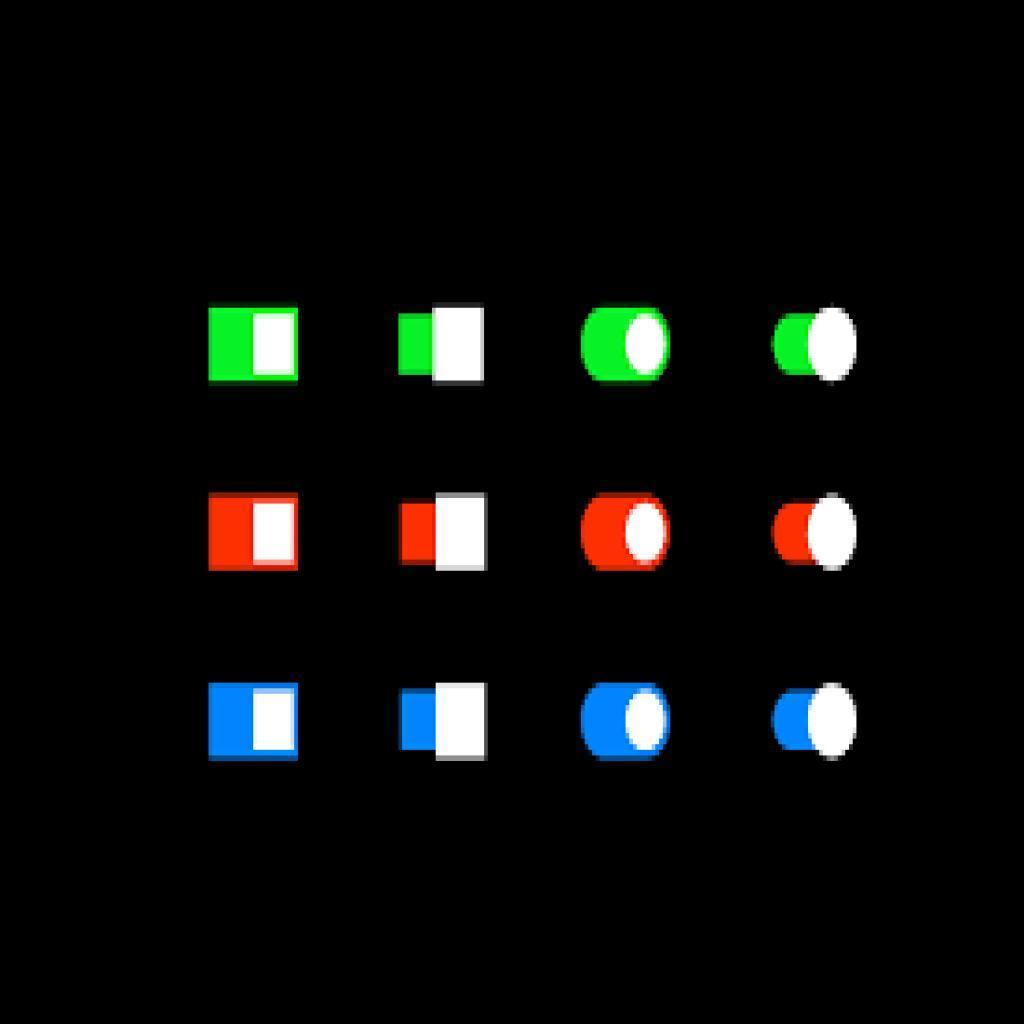switch: (401, 483, 491, 586), (573, 496, 679, 580), (576, 302, 677, 385), (204, 489, 305, 570), (398, 677, 495, 761), (768, 303, 860, 388), (209, 680, 303, 760), (769, 493, 861, 573), (771, 681, 865, 759), (209, 305, 300, 384), (584, 680, 675, 759), (396, 308, 486, 386)
